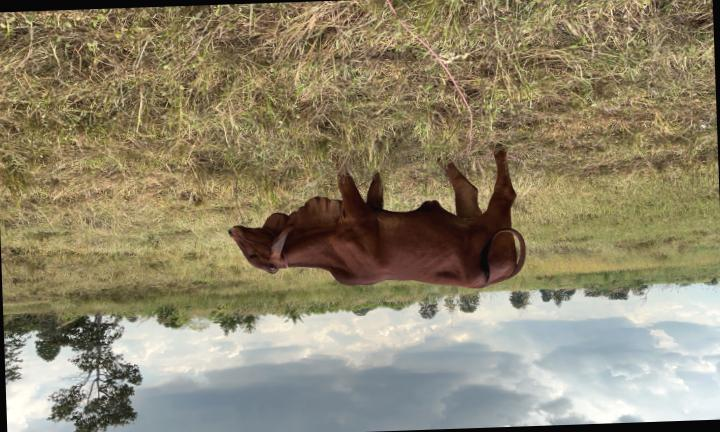Brahman: (229, 152, 526, 288)
